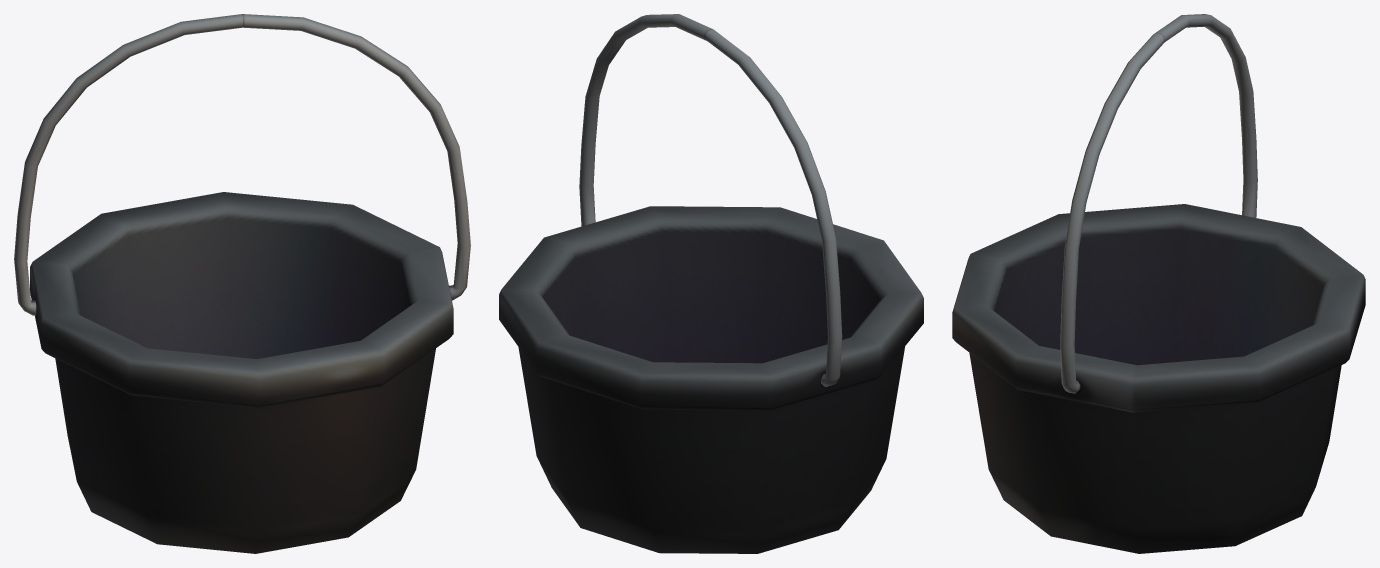
File: Pot Emty.fbx
3 renders of one model, left to right at view 1: azimuth 30°, elevation 25°; view 2: azimuth 150°, elevation 25°; view 3: azimuth 270°, elevation 25°, orthographic. The views are drawn at different scales.
Parts seen in each view (by area): view 1: Cube.010; view 2: Cube.010; view 3: Cube.010.
Part boxes in pixels (box(x1,y1,x2,y2)): Cube.010: box(14, 14, 470, 553); Cube.010: box(499, 14, 923, 553); Cube.010: box(952, 14, 1365, 553).
Bounding box in the file's own units: 80.88 × 99.95 × 80.06.
Materials: 1 (1 with a texture image).
